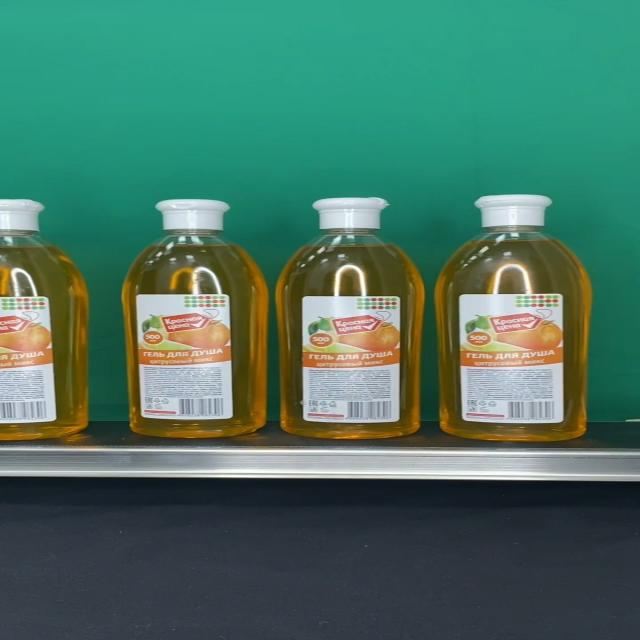Bottle: (434, 195, 591, 442), (277, 197, 425, 440), (124, 200, 268, 438)
Cap: (473, 195, 553, 228), (311, 197, 391, 229), (155, 199, 229, 231)
